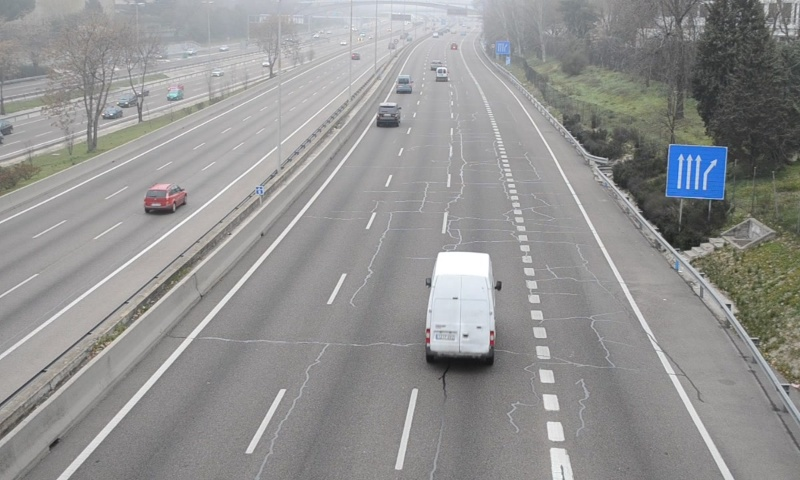car: (376, 102, 401, 128)
van: (425, 252, 493, 364), (396, 74, 412, 93)
